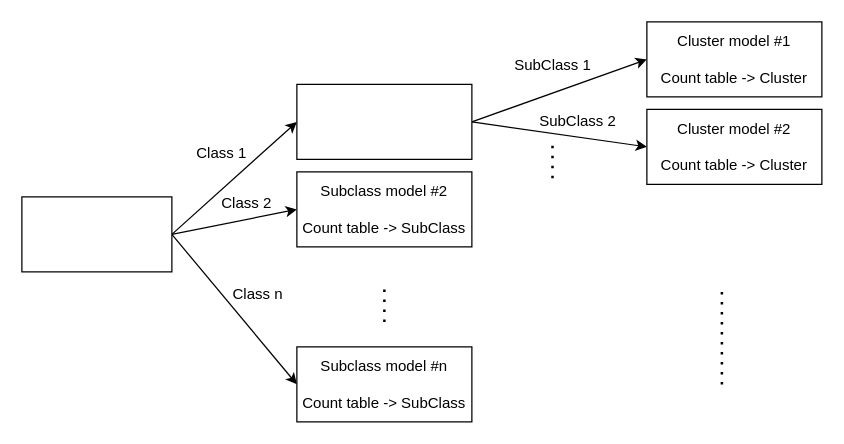
The diagram is 844 pixels wide and 444 high, and some of its shapes have lost their labels. The shapes that lost their labels are listed below. From the top down, each one's box as (x1, y1, x2, y2) in pixels, then its label:
(296, 83, 472, 159): Subclass model #1 Count table -> SubClass
(21, 196, 172, 272): Class model Count table -> Class
